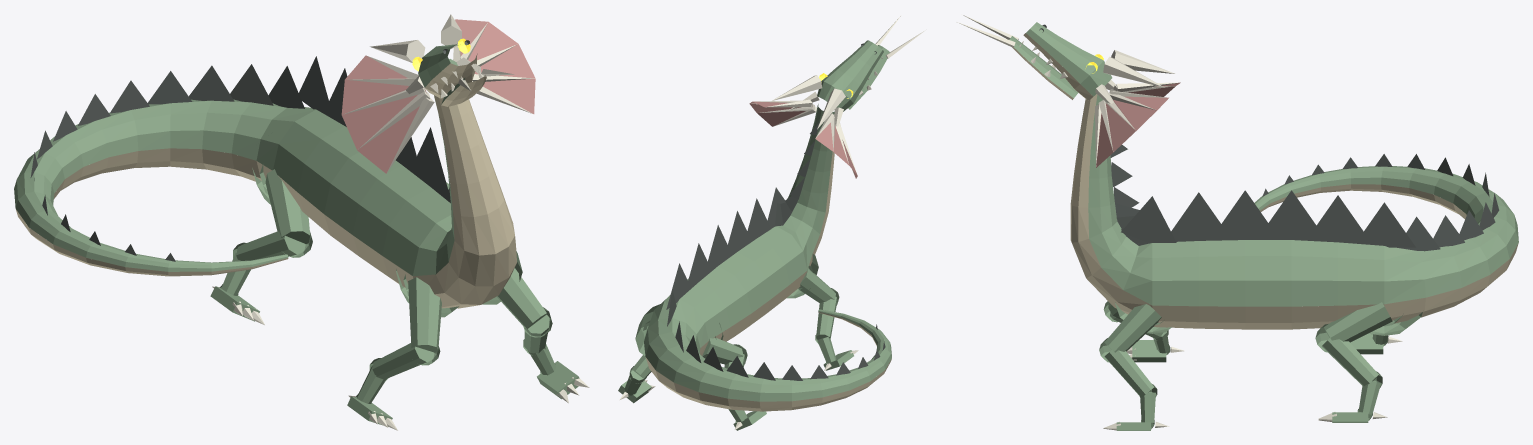
The model's file is dragons-and-wyverns-eastern-dragon-coiled-ba04049b__36724.glb.
3 views of the same model, side by side, from view 1: azimuth 30°, elevation 25°; view 2: azimuth 150°, elevation 25°; view 3: azimuth 270°, elevation 25° (orthographic). The views are drawn at different scales.
Visible parts, largest first — view 1: eastern-dragon-coiled; view 2: eastern-dragon-coiled; view 3: eastern-dragon-coiled.
Boxes of the visible parts, x1,y1,x2,y2 form: eastern-dragon-coiled: (14, 14, 589, 430); eastern-dragon-coiled: (618, 15, 925, 430); eastern-dragon-coiled: (957, 14, 1518, 430).
Size of the model in its own units: 2.97 by 3.18 by 4.62.
